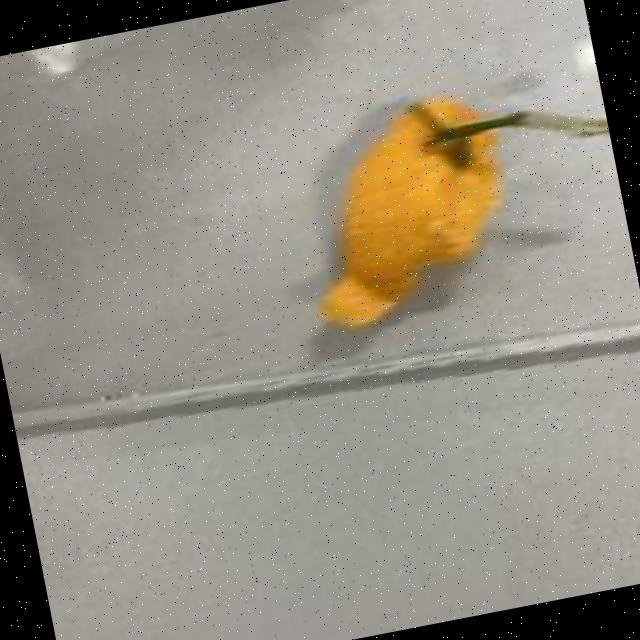orange-peel: (280, 80, 531, 336)
